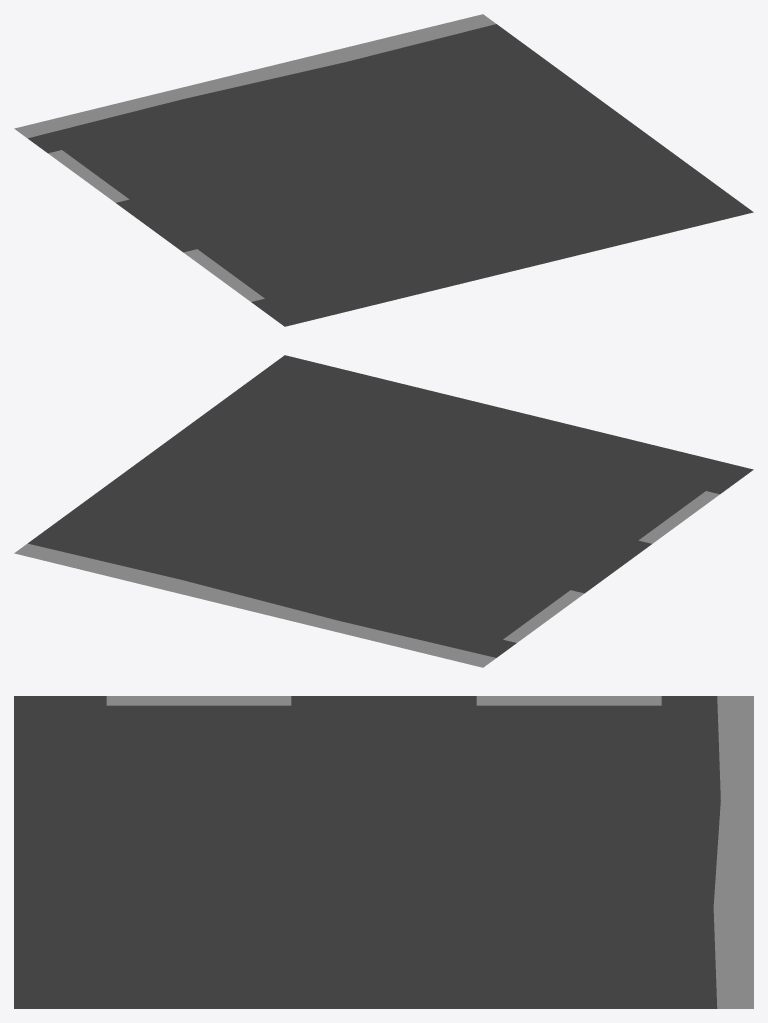
File: SM_Envr_Road_Road_Crosswalk_StopLine_01.fbx
3 renders of one model, top to bottom at view 1: azimuth 30°, elevation 25°; view 2: azimuth 150°, elevation 25°; view 3: azimuth 270°, elevation 25°, orthographic. The views are drawn at different scales.
Visible parts, largest first — view 1: SM_Envr_Road_Road_Crosswalk_StopLine_01; view 2: SM_Envr_Road_Road_Crosswalk_StopLine_01; view 3: SM_Envr_Road_Road_Crosswalk_StopLine_01.
Part boxes in pixels (x1,y1,x2,y2): SM_Envr_Road_Road_Crosswalk_StopLine_01: (14, 14, 753, 326); SM_Envr_Road_Road_Crosswalk_StopLine_01: (14, 355, 753, 667); SM_Envr_Road_Road_Crosswalk_StopLine_01: (14, 696, 753, 1008).
Bounding box in the file's own units: 500 × 0 × 500.
